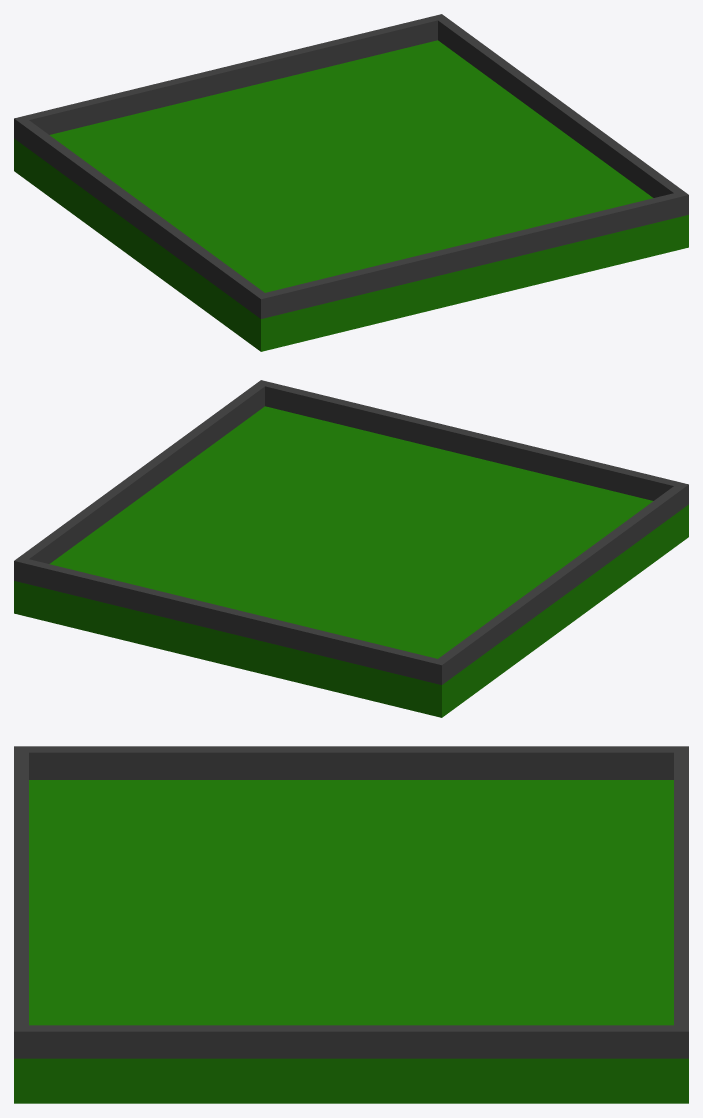
The model's file is BoardCell.fbx.
The picture shows the model from 3 angles, top to bottom: view 1: azimuth 30°, elevation 25°; view 2: azimuth 150°, elevation 25°; view 3: azimuth 270°, elevation 25°; orthographic projection. The views are drawn at different scales.
Parts seen in each view (by area): view 1: Cube; view 2: Cube; view 3: Cube.
Boxes of the visible parts, x1,y1,x2,y2 form: Cube: [14, 14, 688, 351]; Cube: [14, 380, 688, 717]; Cube: [14, 746, 688, 1103].
Size of the model in its own units: 200 by 23.52 by 200.
